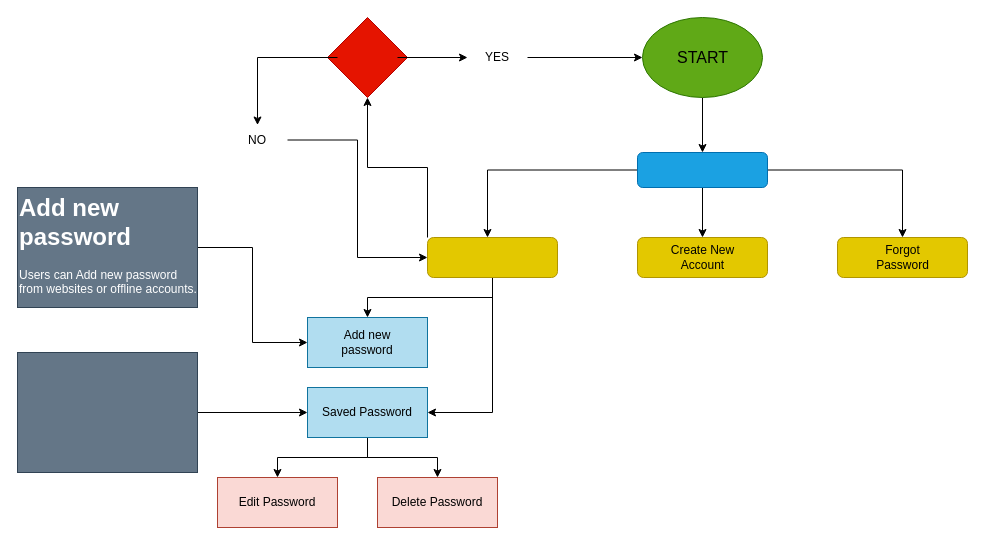
Some shapes in this 985 by 545 pixel diagram are drawn without their labels. Each missing label, with the centre of its shape:
Login Page: point 702,170
Logout?: point 367,57
Password Manager Main Page: point 492,257
Saved Password Users can view, edit, and delete their saved password.: point 107,412
